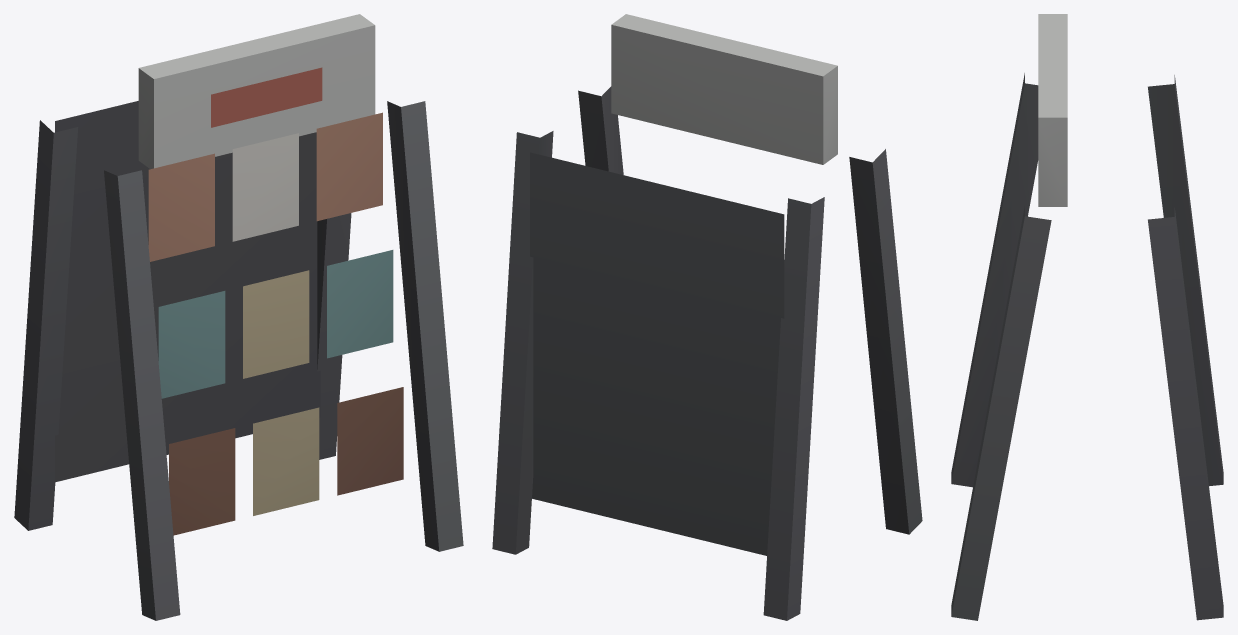
Rendered from cans.lod2.glb.
3 views of the same model, side by side, from view 1: azimuth 30°, elevation 25°; view 2: azimuth 150°, elevation 25°; view 3: azimuth 270°, elevation 25° (orthographic). The views are drawn at different scales.
Size of the model in its own units: 0.695 by 1.08 by 0.5544.
